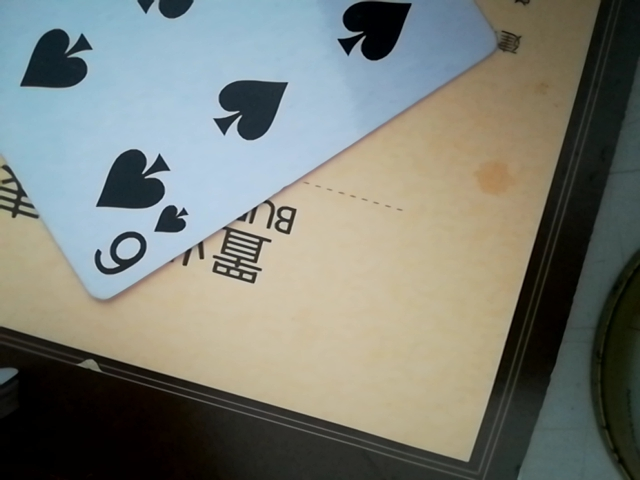ht 6: (3, 1, 500, 309)
